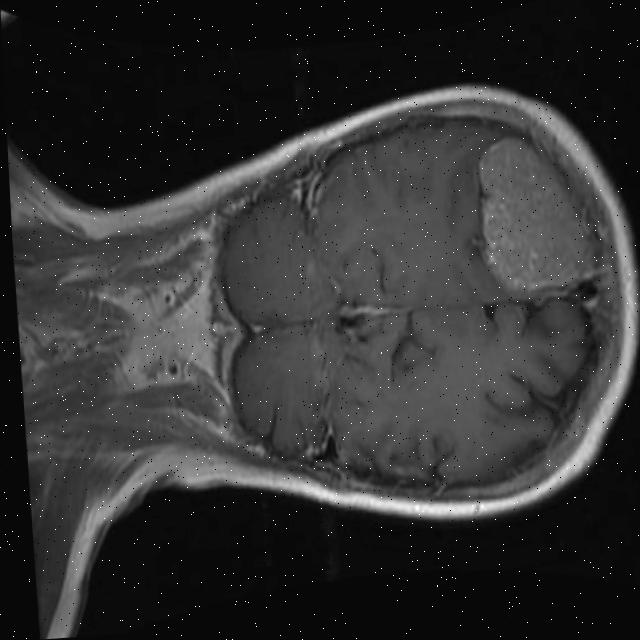Meningioma: (472, 126, 597, 300)
